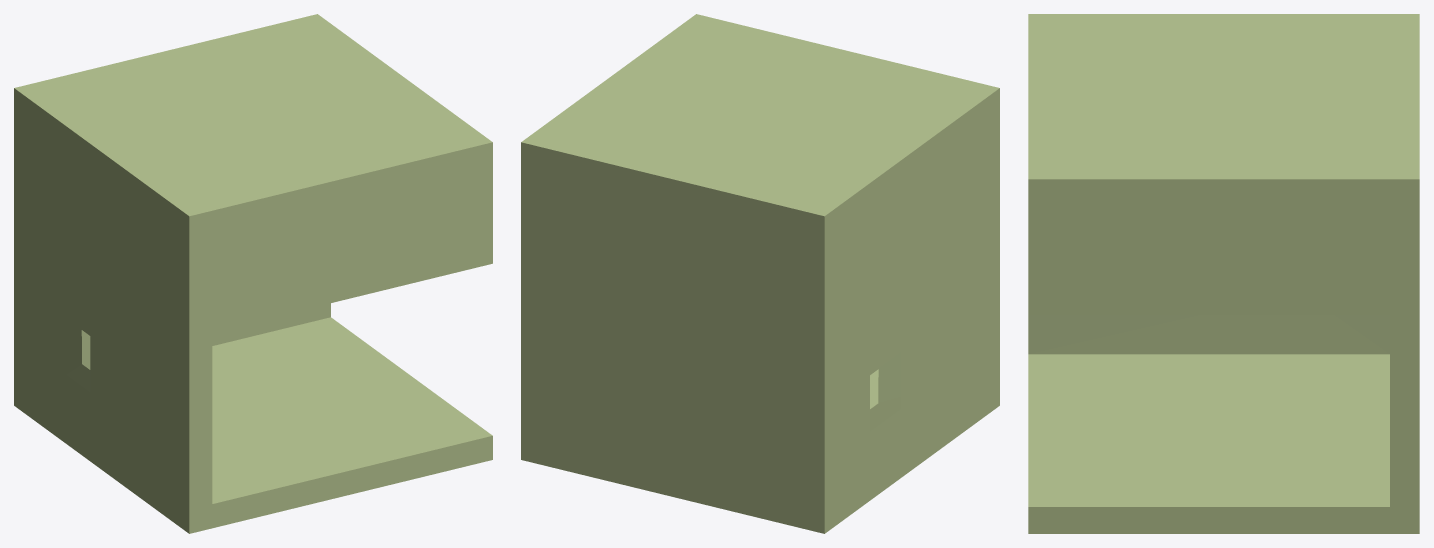
The model's file is room.glb.
3 views of the same model, side by side, from view 1: azimuth 30°, elevation 25°; view 2: azimuth 150°, elevation 25°; view 3: azimuth 270°, elevation 25° (orthographic). The views are drawn at different scales.
Visible parts, largest first — view 1: walls; view 2: walls; view 3: walls.
Boxes of the visible parts, x1,y1,x2,y2 form: walls: [14, 14, 492, 533]; walls: [521, 14, 999, 533]; walls: [1028, 14, 1419, 533].
Size of the model in its own units: 7.97 by 7.97 by 7.97.
